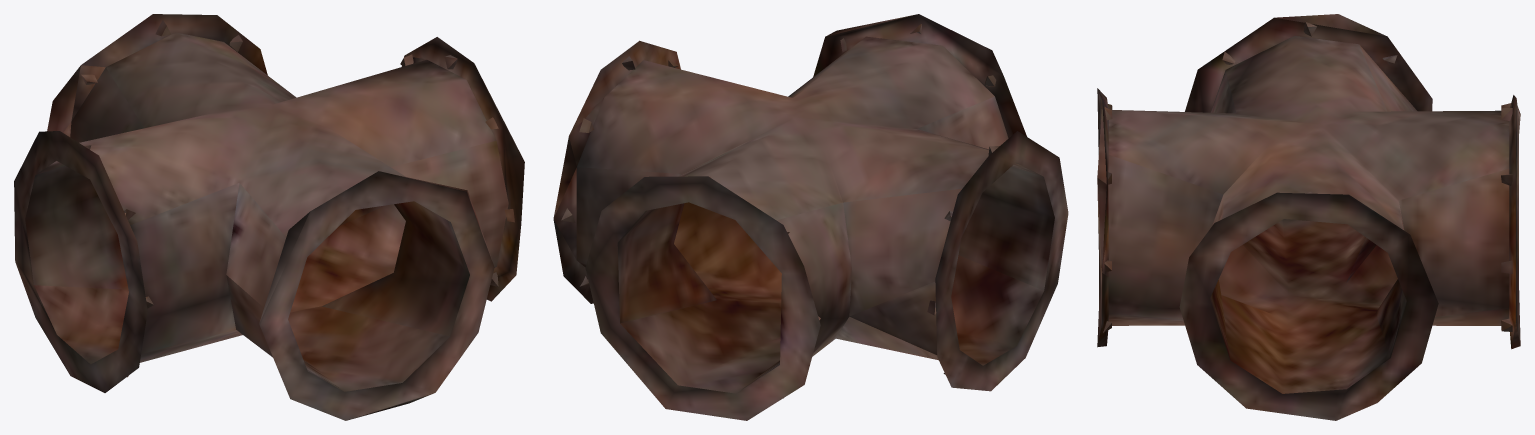
Rendered from rusty_pipe_11.glb.
3 views of the same model, side by side, from view 1: azimuth 30°, elevation 25°; view 2: azimuth 150°, elevation 25°; view 3: azimuth 270°, elevation 25° (orthographic). The views are drawn at different scales.
Parts seen in each view (by area): view 1: rusty_pipe_11; view 2: rusty_pipe_11; view 3: rusty_pipe_11.
Boxes of the visible parts, <box> form: rusty_pipe_11: <box>14,14,524,420</box>; rusty_pipe_11: <box>553,14,1068,420</box>; rusty_pipe_11: <box>1097,14,1520,420</box>.
Size of what is drawn, in the model's own units: 0.0479 by 0.029 by 0.0478.
1 material, 1 textured.
